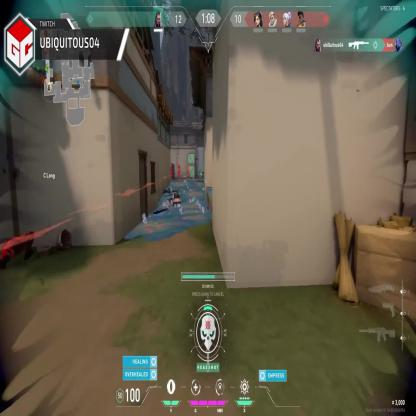enemy: (177, 162, 181, 181), (186, 166, 190, 178), (170, 165, 172, 180)
enemy_head: (178, 162, 180, 166), (170, 164, 171, 169), (188, 166, 189, 168)
